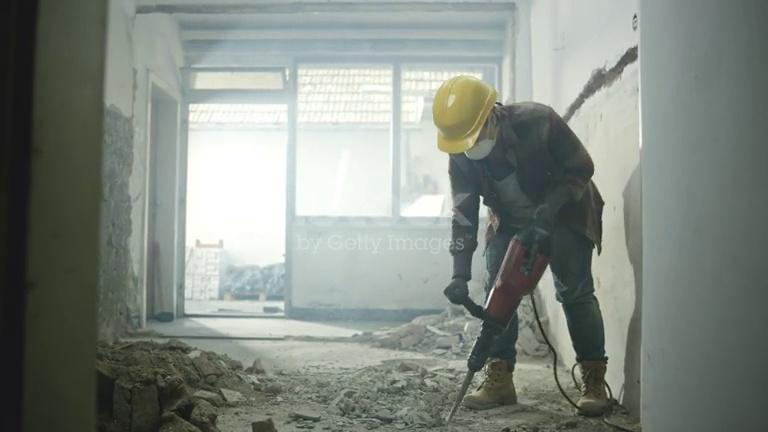helmet: (431, 74, 501, 154)
mask: (464, 135, 498, 160)
person: (431, 73, 611, 417)
